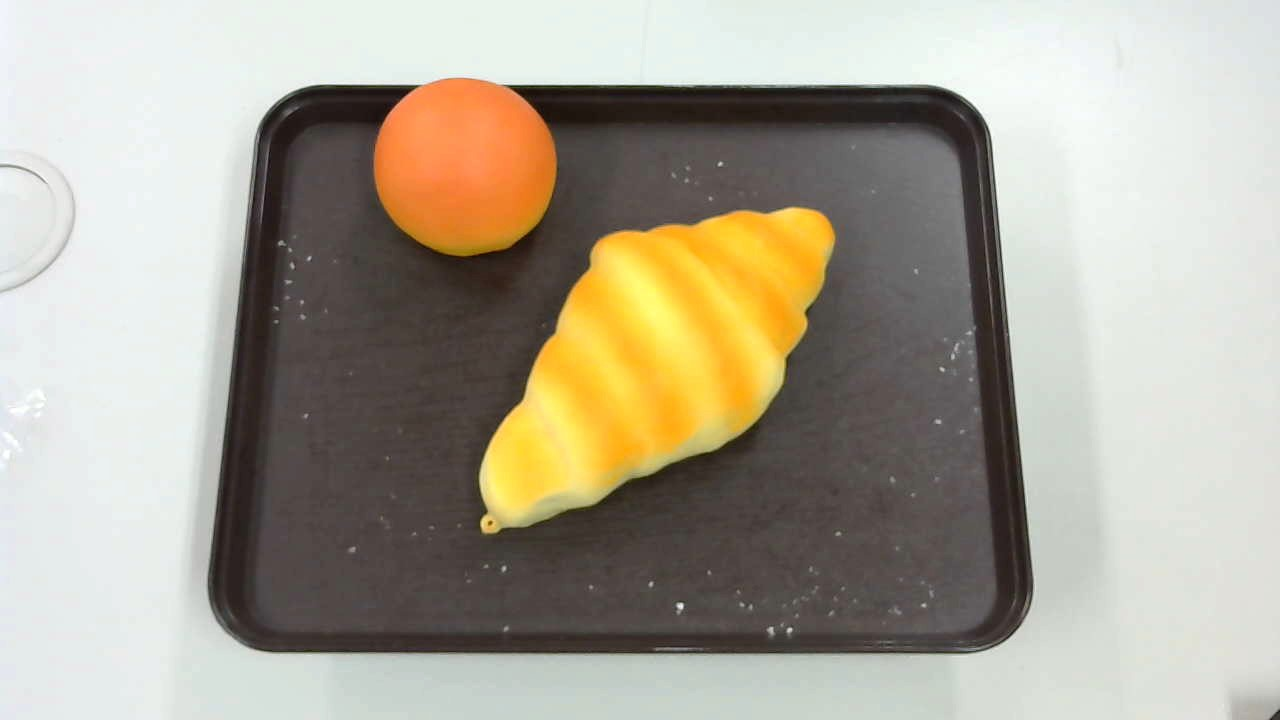bun: (373, 77, 556, 257)
croissant: (476, 207, 839, 532)
